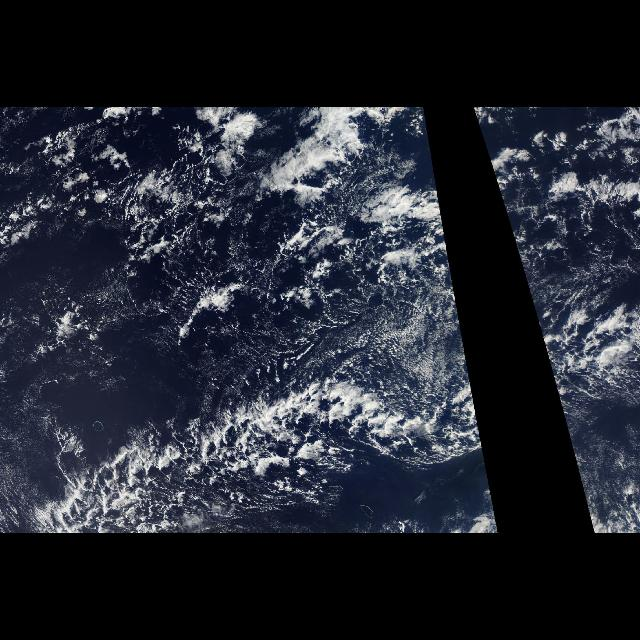Fish: (42, 372, 500, 532)
Gravel: (118, 171, 378, 361)
